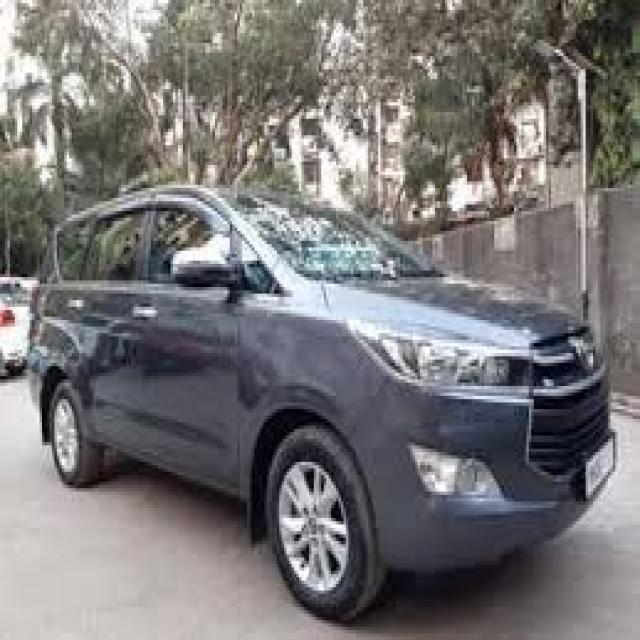light_vehicle: (29, 183, 617, 625)
